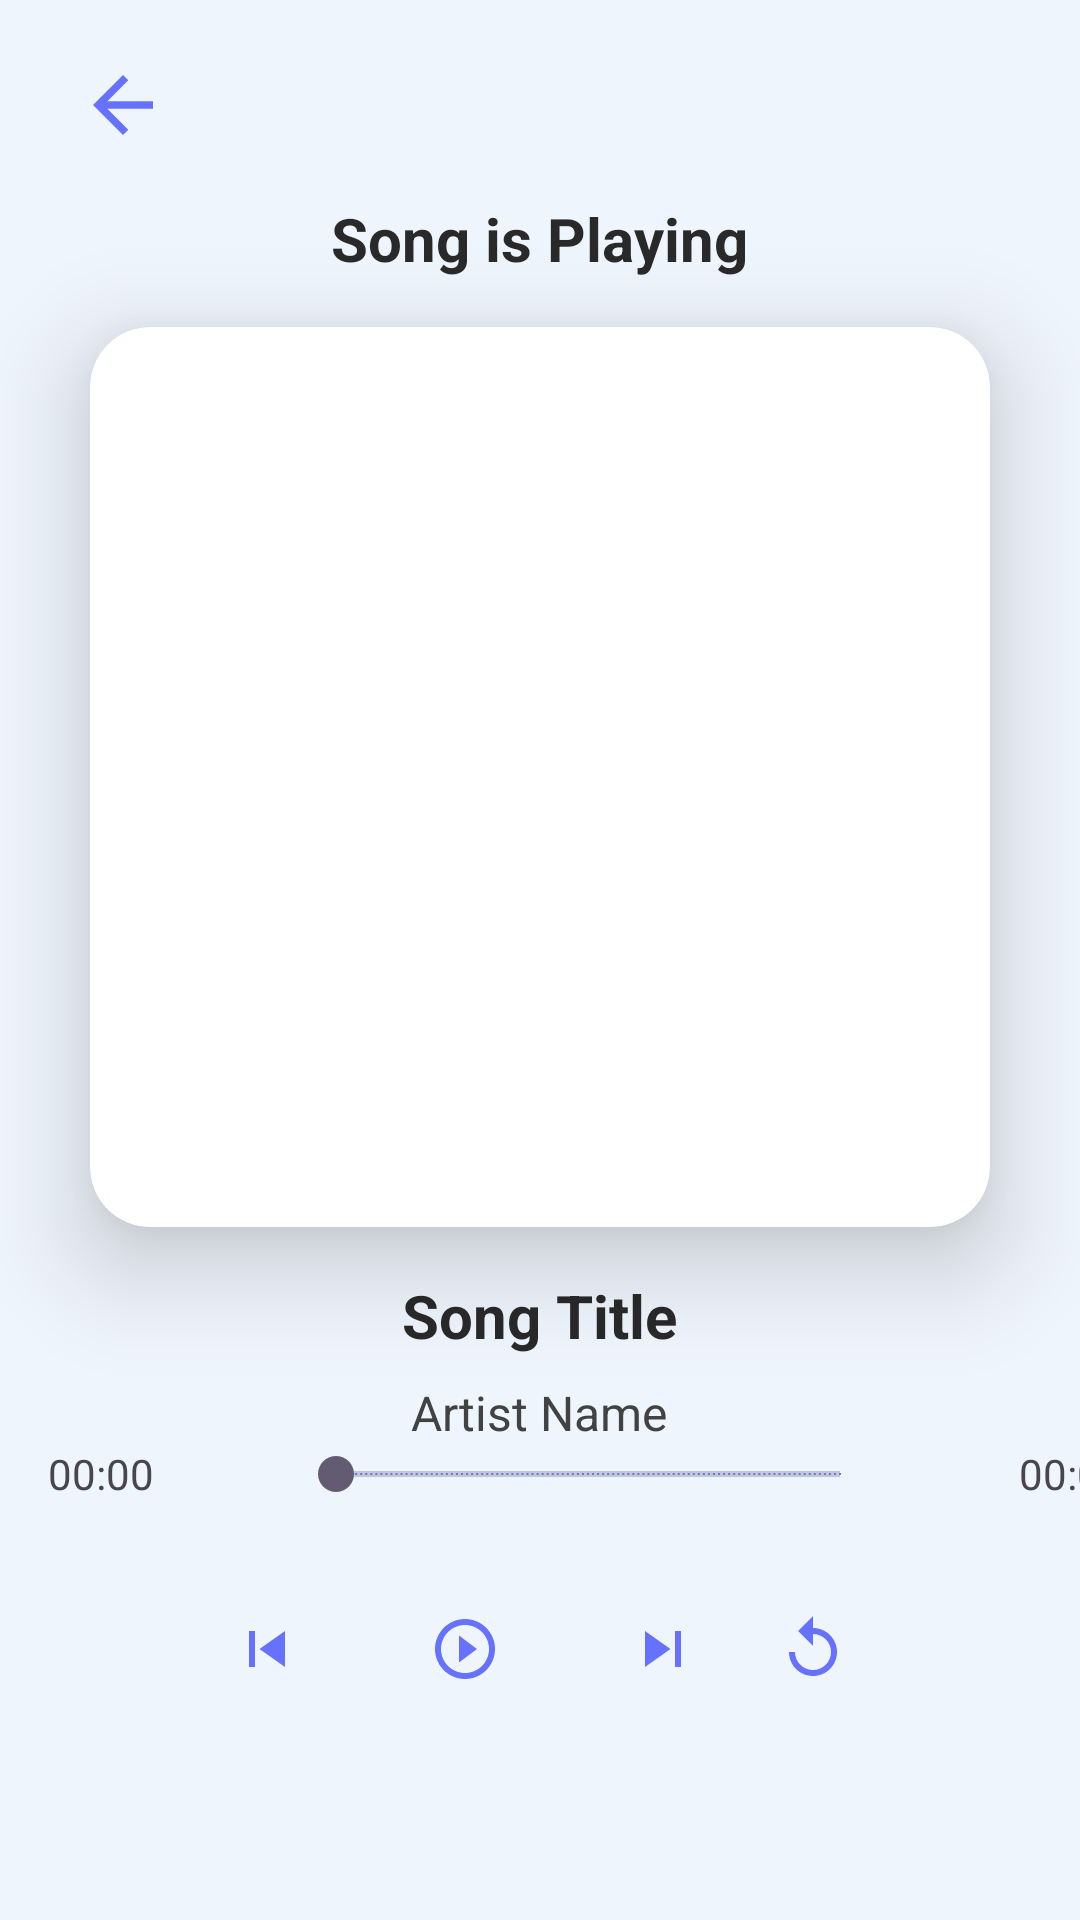

Icons on this 1080px×1920px Android screen, each with its box as region(x1, y1, x2, y2):
arrow back: region(93, 75, 153, 135)
Play/Pause: region(435, 1619, 495, 1679)
Previous: region(249, 1631, 285, 1667)
replay: region(789, 1616, 837, 1676)
skip next: region(645, 1631, 681, 1667)
